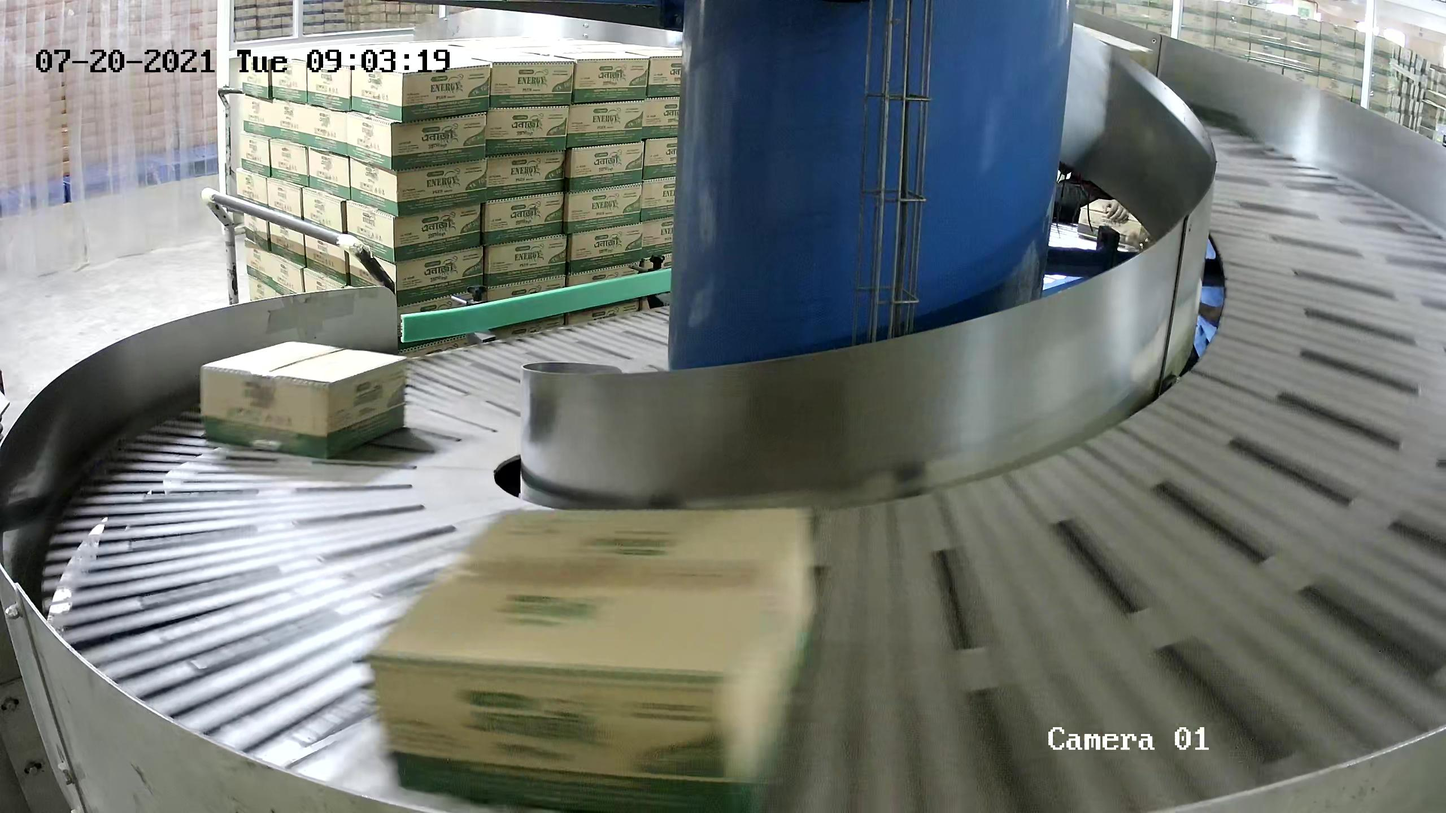Box: (364, 503, 821, 813), (199, 340, 409, 459)
